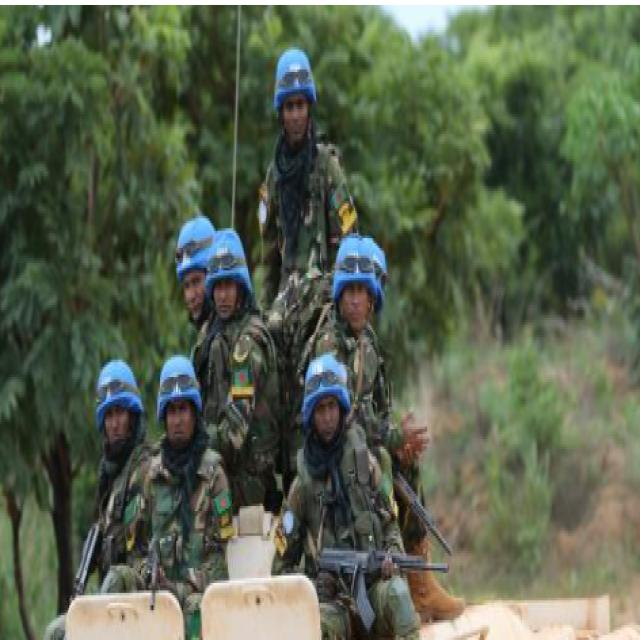hard_hat: (203, 223, 254, 328), (330, 232, 380, 339), (93, 353, 144, 454), (172, 212, 220, 316), (269, 41, 318, 140), (300, 354, 352, 444), (156, 352, 204, 446), (361, 233, 390, 329)
